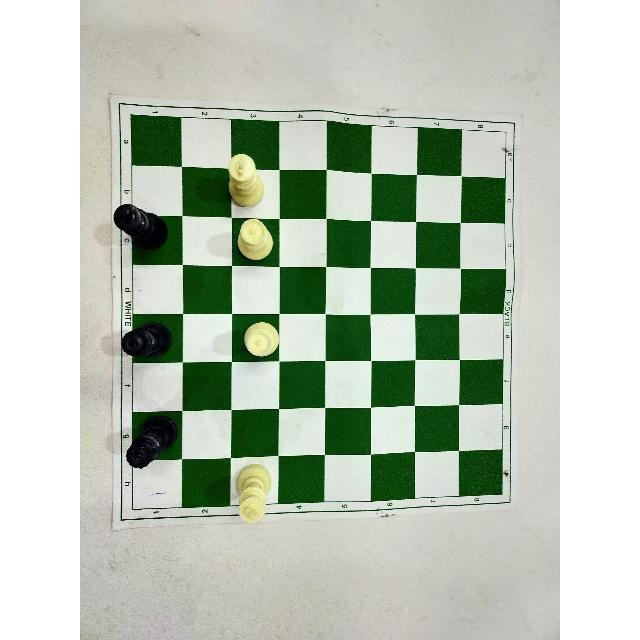black-king: (110, 201, 170, 253)
black-queen: (123, 411, 181, 472), (116, 319, 176, 363)
white-king: (223, 149, 268, 210), (234, 460, 274, 527)
white-queen: (234, 216, 276, 264), (241, 320, 281, 358)
